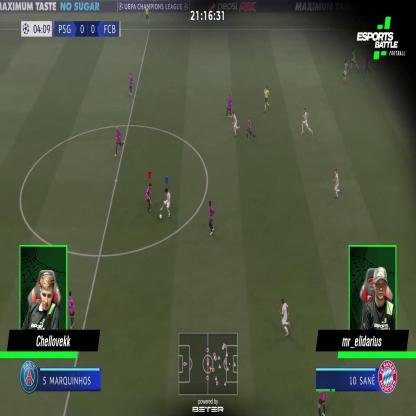ball: (159, 214, 162, 218)
